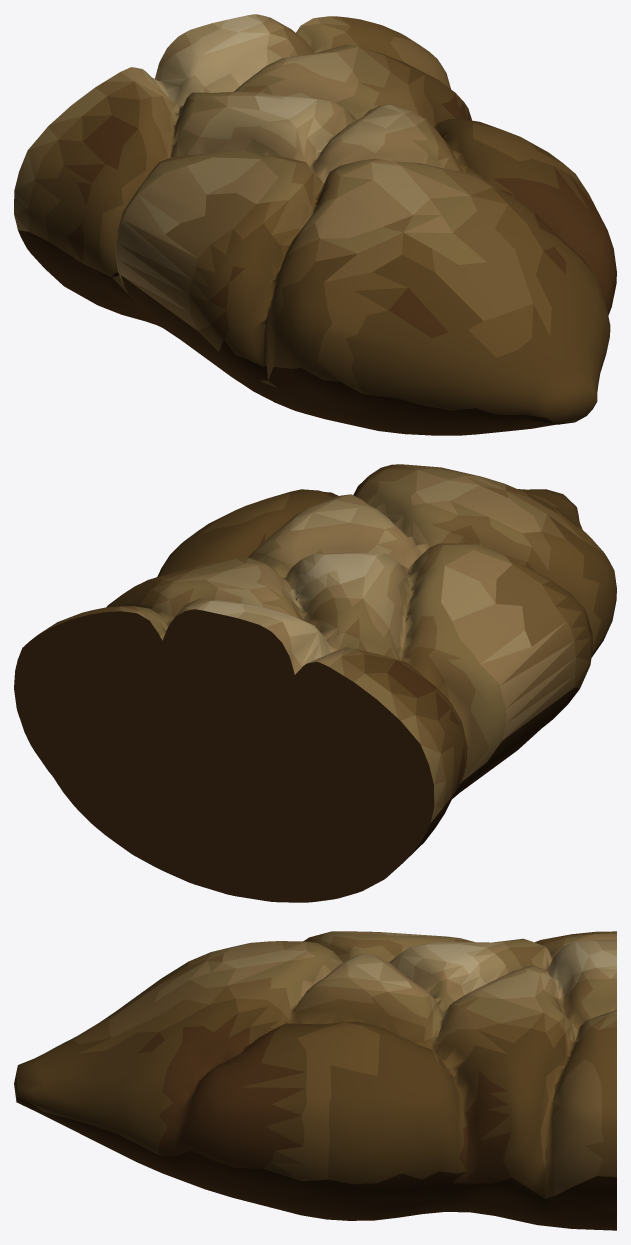
Rendered from ixm_maw_low_93.glb.
3 renders of one model, top to bottom at view 1: azimuth 30°, elevation 25°; view 2: azimuth 150°, elevation 25°; view 3: azimuth 270°, elevation 25°, orthographic. The views are drawn at different scales.
Visible parts, largest first — view 1: ixm_maw_low_93; view 2: ixm_maw_low_93; view 3: ixm_maw_low_93.
Part boxes in pixels (left/top/right/bottom): ixm_maw_low_93: left=14, top=14, right=616, bottom=435; ixm_maw_low_93: left=14, top=464, right=616, bottom=902; ixm_maw_low_93: left=14, top=931, right=616, bottom=1230.
Size of the model in its own units: 18.02 by 11.44 by 25.07.
